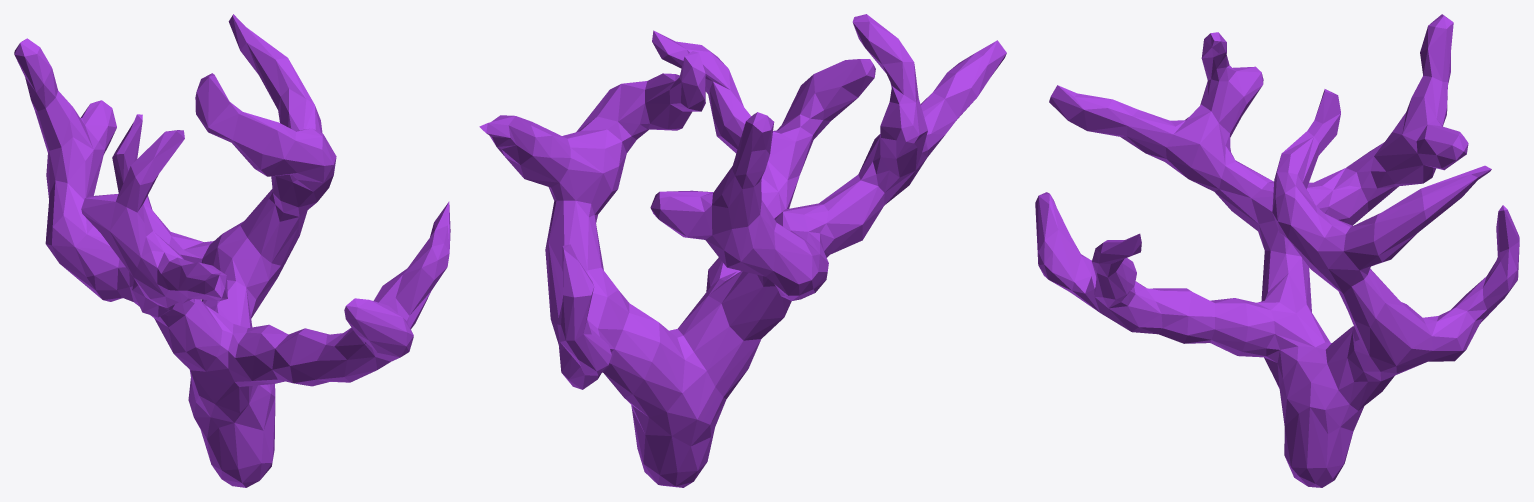
The model's file is coral1.fbx.
The picture shows the model from 3 angles, left to right: view 1: azimuth 30°, elevation 25°; view 2: azimuth 150°, elevation 25°; view 3: azimuth 270°, elevation 25°; orthographic projection. The views are drawn at different scales.
Visible parts, largest first — view 1: Acropora cervicornis; view 2: Acropora cervicornis; view 3: Acropora cervicornis.
Boxes of the visible parts, <box> form: Acropora cervicornis: <box>14,14,450,487</box>; Acropora cervicornis: <box>479,14,1006,487</box>; Acropora cervicornis: <box>1035,14,1519,487</box>.
Size of the model in its own units: 59.56 by 79.8 by 87.14.
